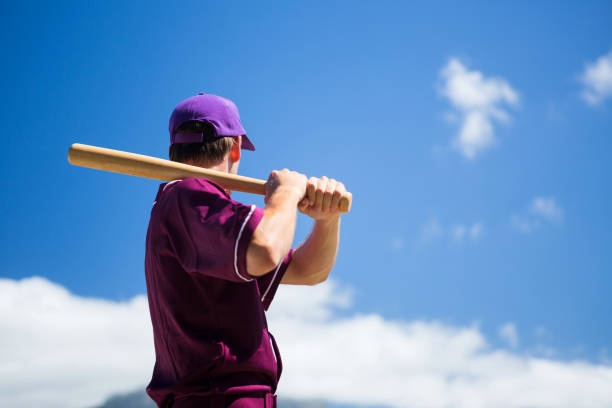bita: (69, 143, 356, 210)
